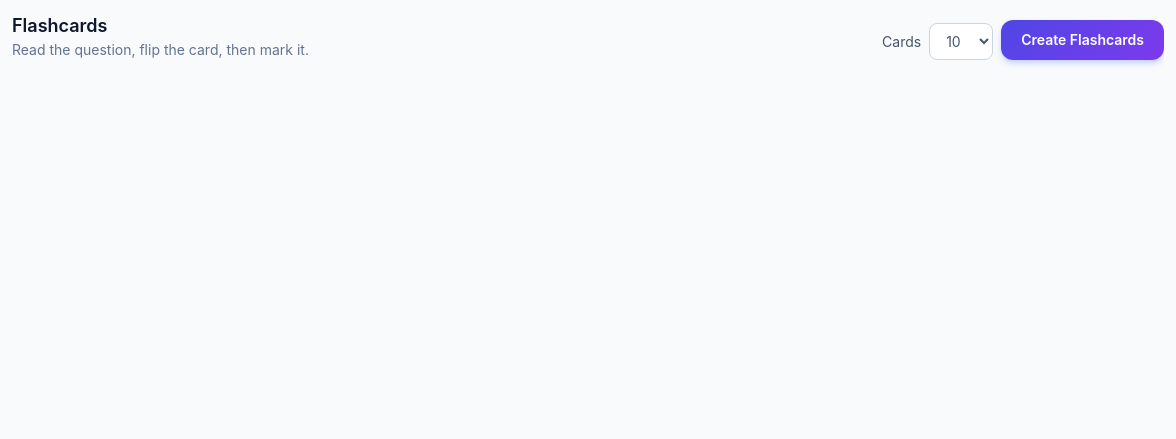
Scenario: FlashcardPanel › marks a card as Known and shows the new status
The image size is (1176, 439).
Click the button "Create Flashcards": (1083, 40) top-left (1001, 20), bottom-right (1164, 60)
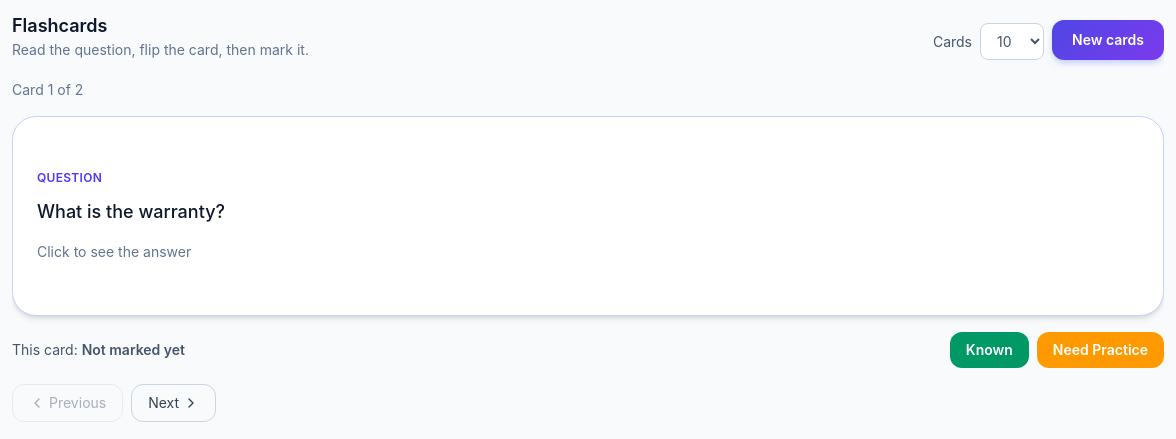
Expected: the text "What is the warranty?" is shown, top-left (37, 198), bottom-right (225, 226)
Click the button "Known": (989, 350) top-left (950, 332), bottom-right (1029, 368)
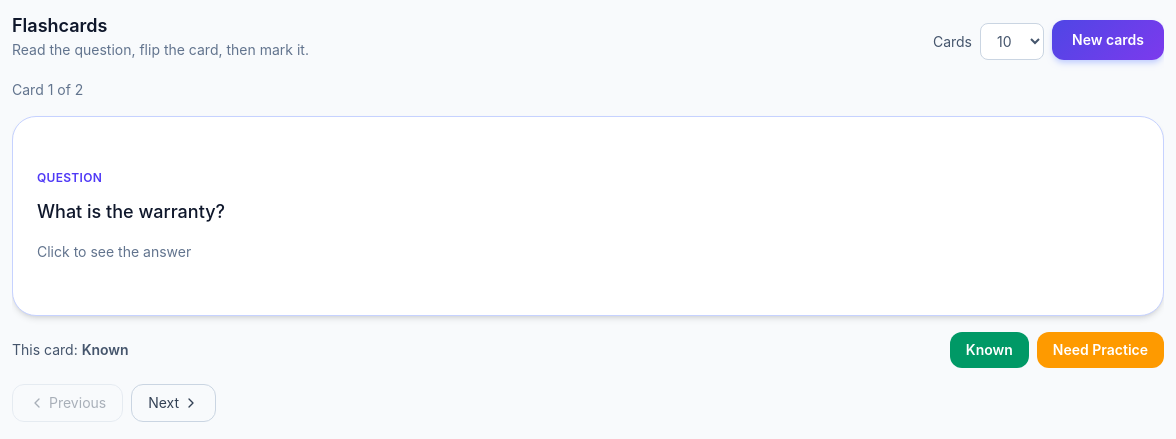
Expected: the text with test id "card-status" reads "Known", top-left (82, 341), bottom-right (129, 358)
